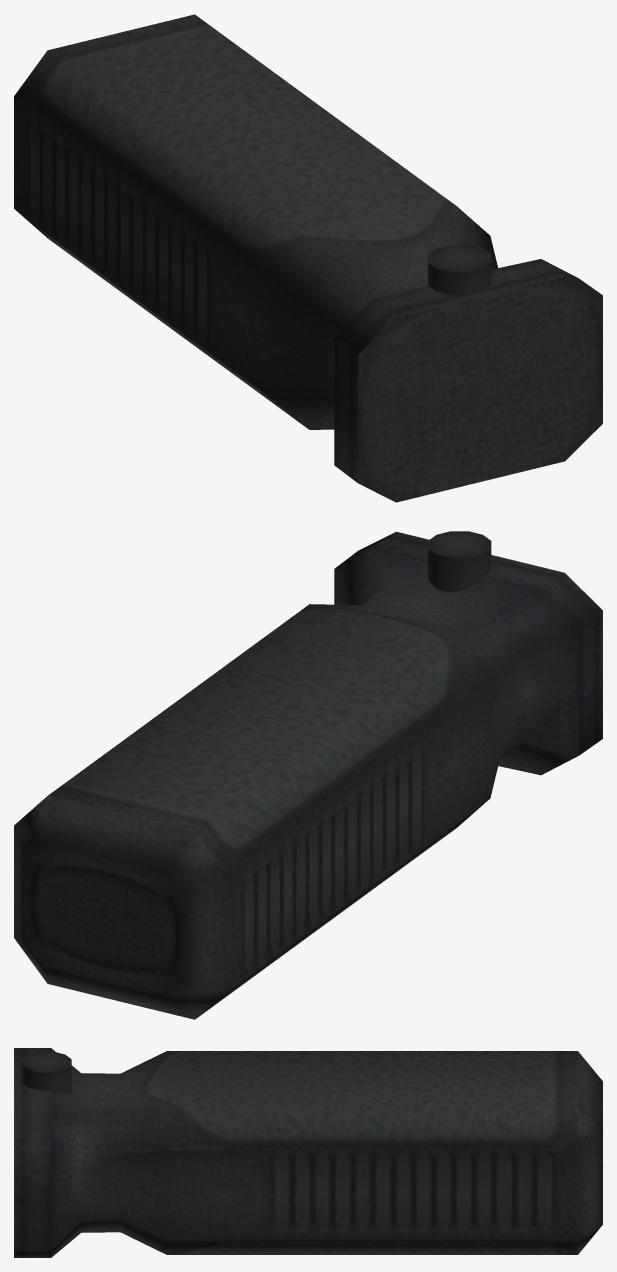
Rendered from t6_attach_grip_view_LOD0.obj.
The picture shows the model from 3 angles, top to bottom: view 1: azimuth 30°, elevation 25°; view 2: azimuth 150°, elevation 25°; view 3: azimuth 270°, elevation 25°; orthographic projection. The views are drawn at different scales.
Parts seen in each view (by area): view 1: mtl_t6_attach_grip; view 2: mtl_t6_attach_grip; view 3: mtl_t6_attach_grip.
Boxes of the visible parts, left/top/right/bottom form: mtl_t6_attach_grip: left=14, top=14, right=602, bottom=502; mtl_t6_attach_grip: left=14, top=531, right=602, bottom=1019; mtl_t6_attach_grip: left=14, top=1048, right=602, bottom=1257.
Size of the model in its own units: 3.88 by 3.17 by 10.3.
